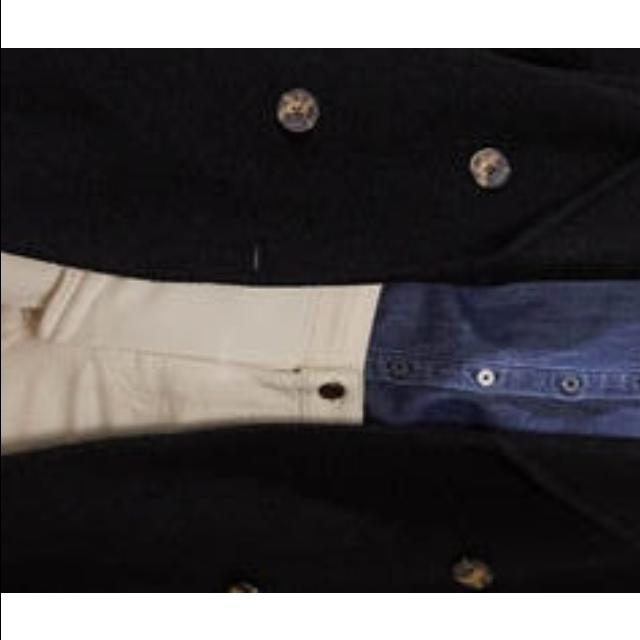wool: (0, 48, 640, 592)
